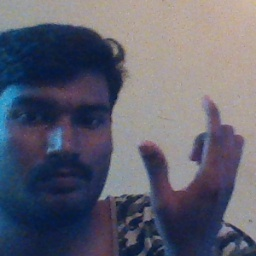U: (139, 89, 249, 224)
